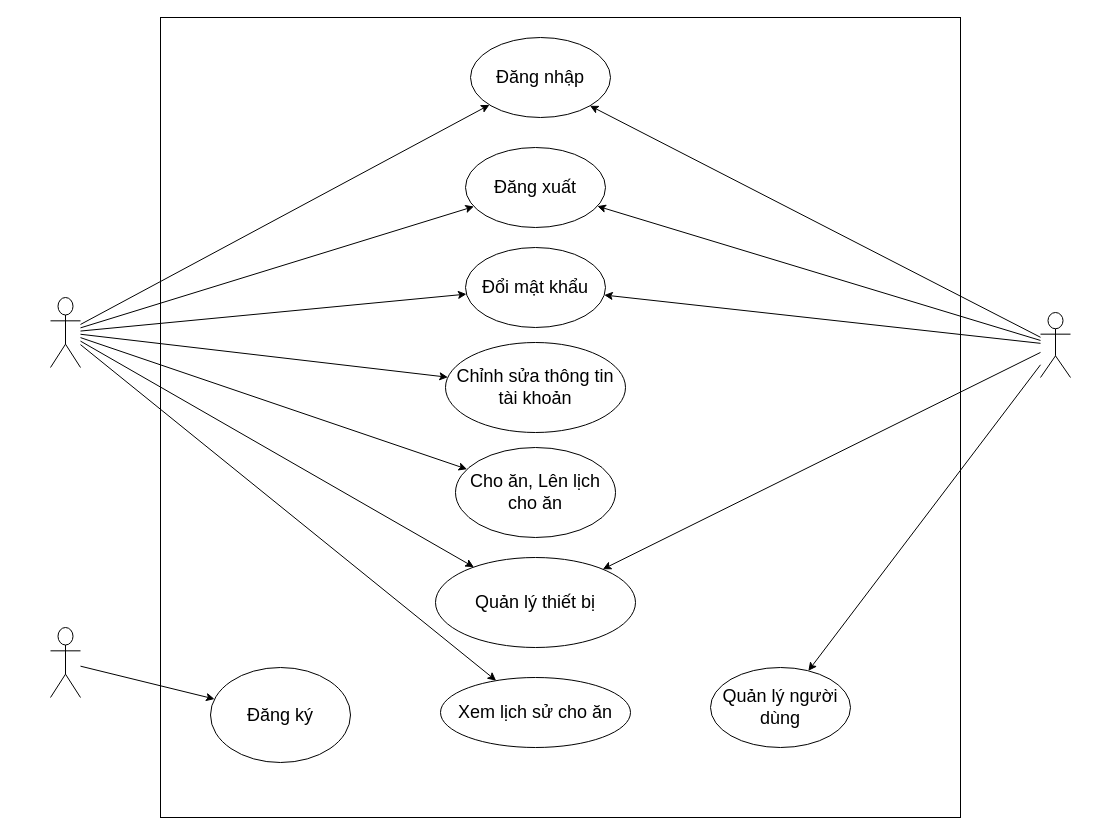
Image size: 1098x835. Some labels were removed from this diagram. Each missing label, with the centre of its shape:
Admin: (x=1055, y=345)
Khách: (x=65, y=662)
Người dùng: (x=65, y=332)
